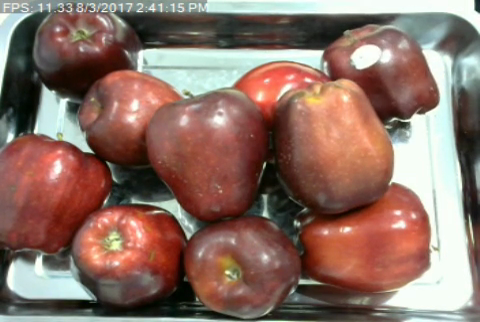Apple: (273, 77, 399, 217), (144, 85, 269, 221), (292, 180, 435, 297), (0, 131, 113, 259), (182, 211, 304, 321), (318, 18, 443, 125), (69, 200, 188, 310), (75, 65, 184, 169), (30, 1, 141, 95), (229, 57, 334, 131)
